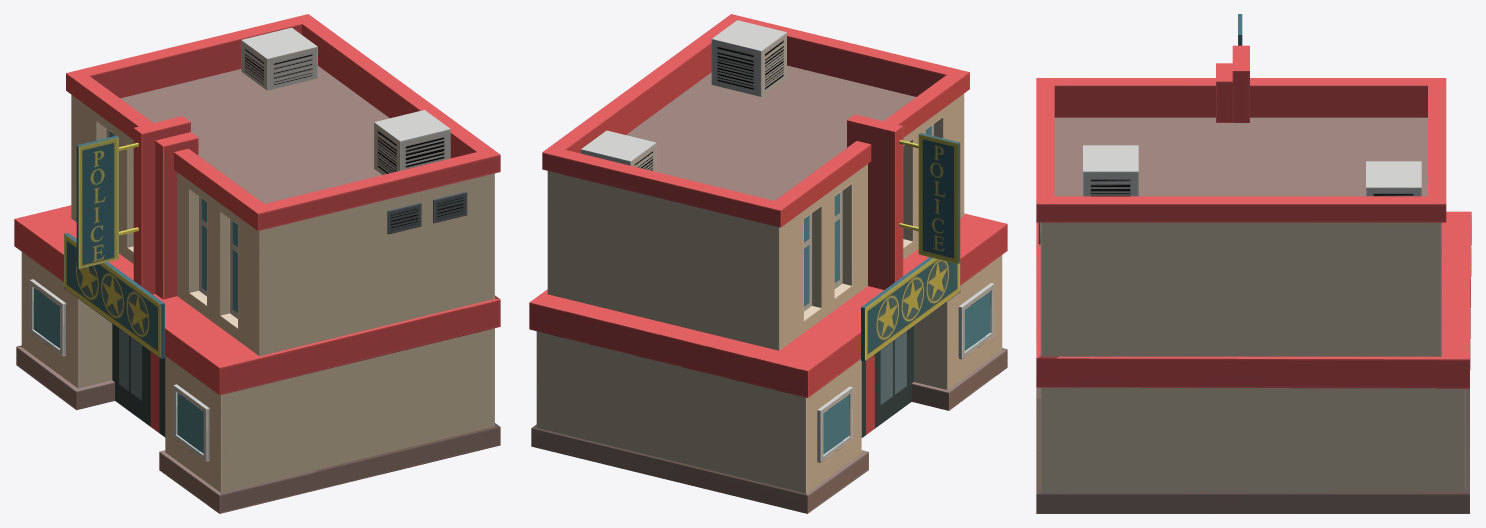
The model's file is Police.glb.
The picture shows the model from 3 angles, left to right: view 1: azimuth 30°, elevation 25°; view 2: azimuth 150°, elevation 25°; view 3: azimuth 270°, elevation 25°; orthographic projection. The views are drawn at different scales.
Parts seen in each view (by area): view 1: Plane001; view 2: Plane001; view 3: Plane001.
Boxes of the visible parts, bbox=[...] form: Plane001: bbox=[14, 14, 500, 513]; Plane001: bbox=[529, 14, 1007, 513]; Plane001: bbox=[1036, 14, 1471, 513].
Bounding box in the file's own units: 3.24 × 2.91 × 3.48.
Materials: 1 (1 with a texture image).
